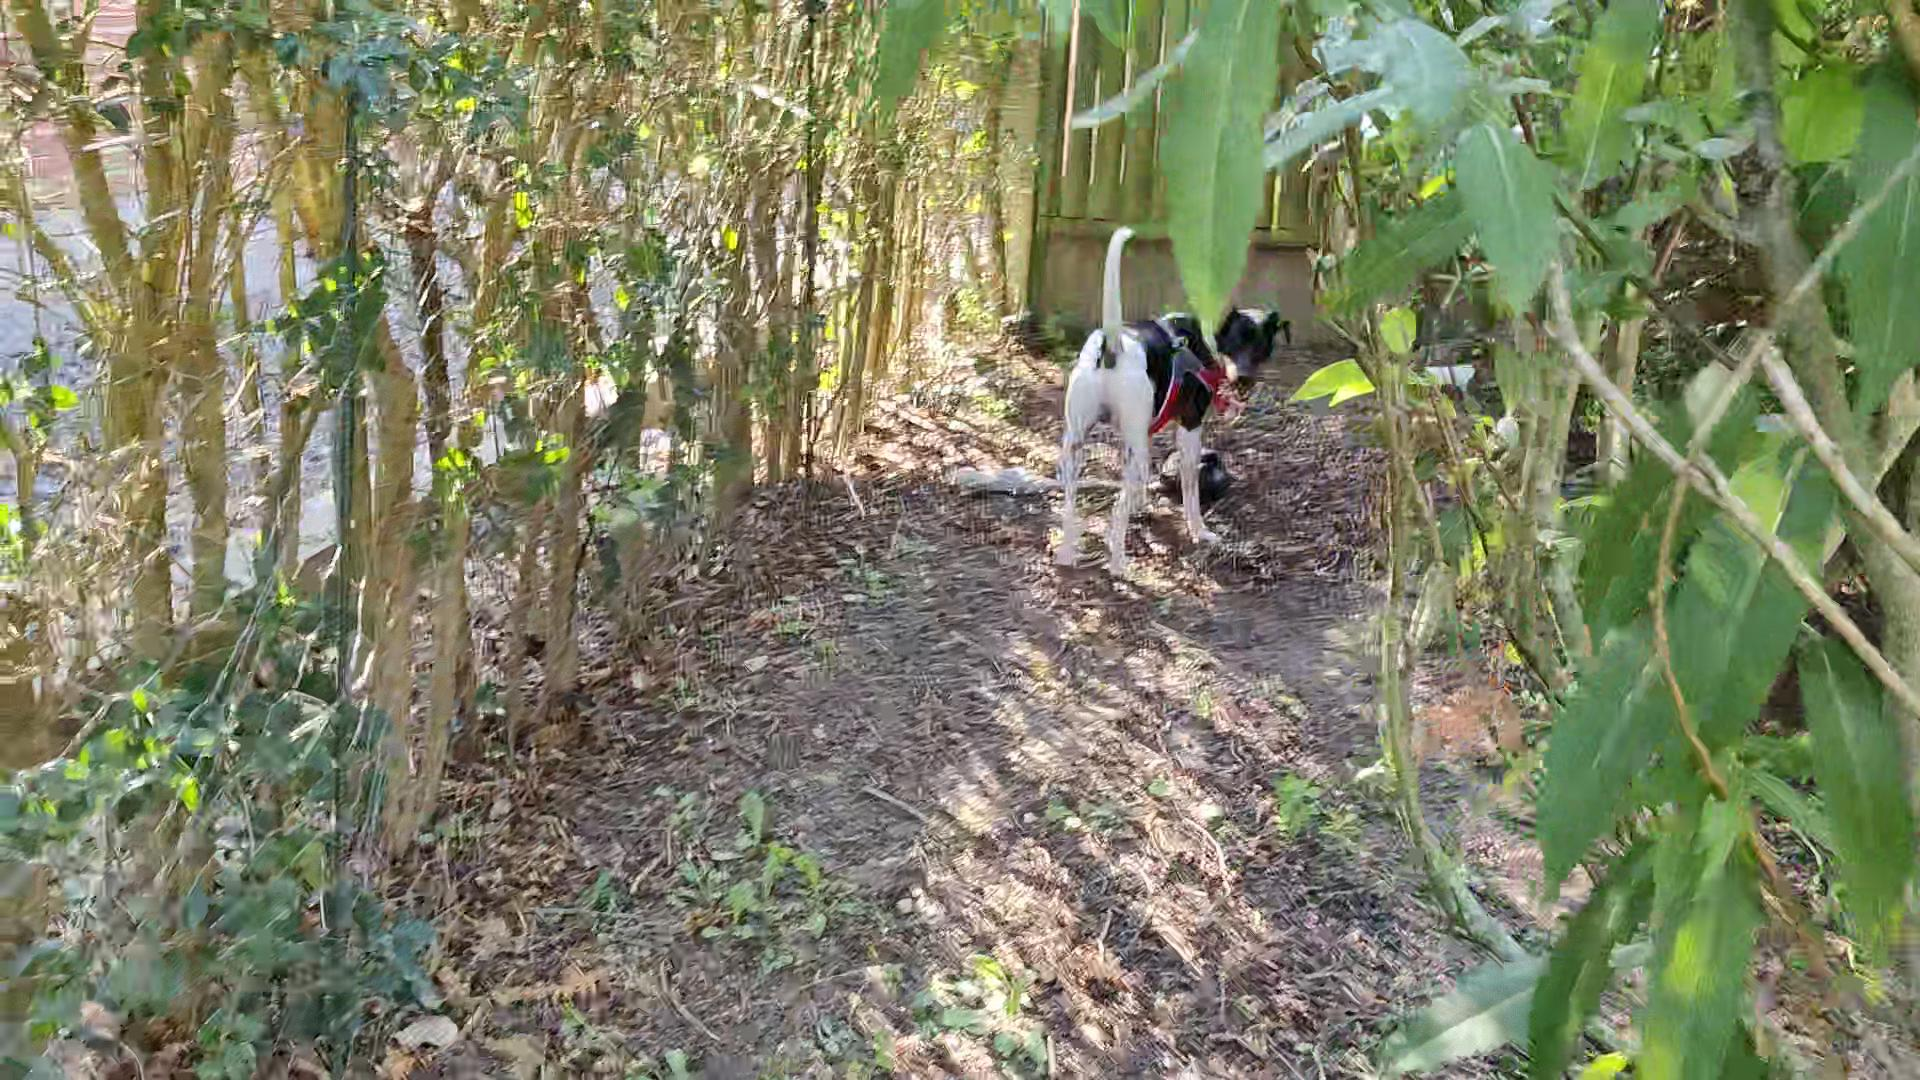Dog: (1026, 214, 1302, 587)
